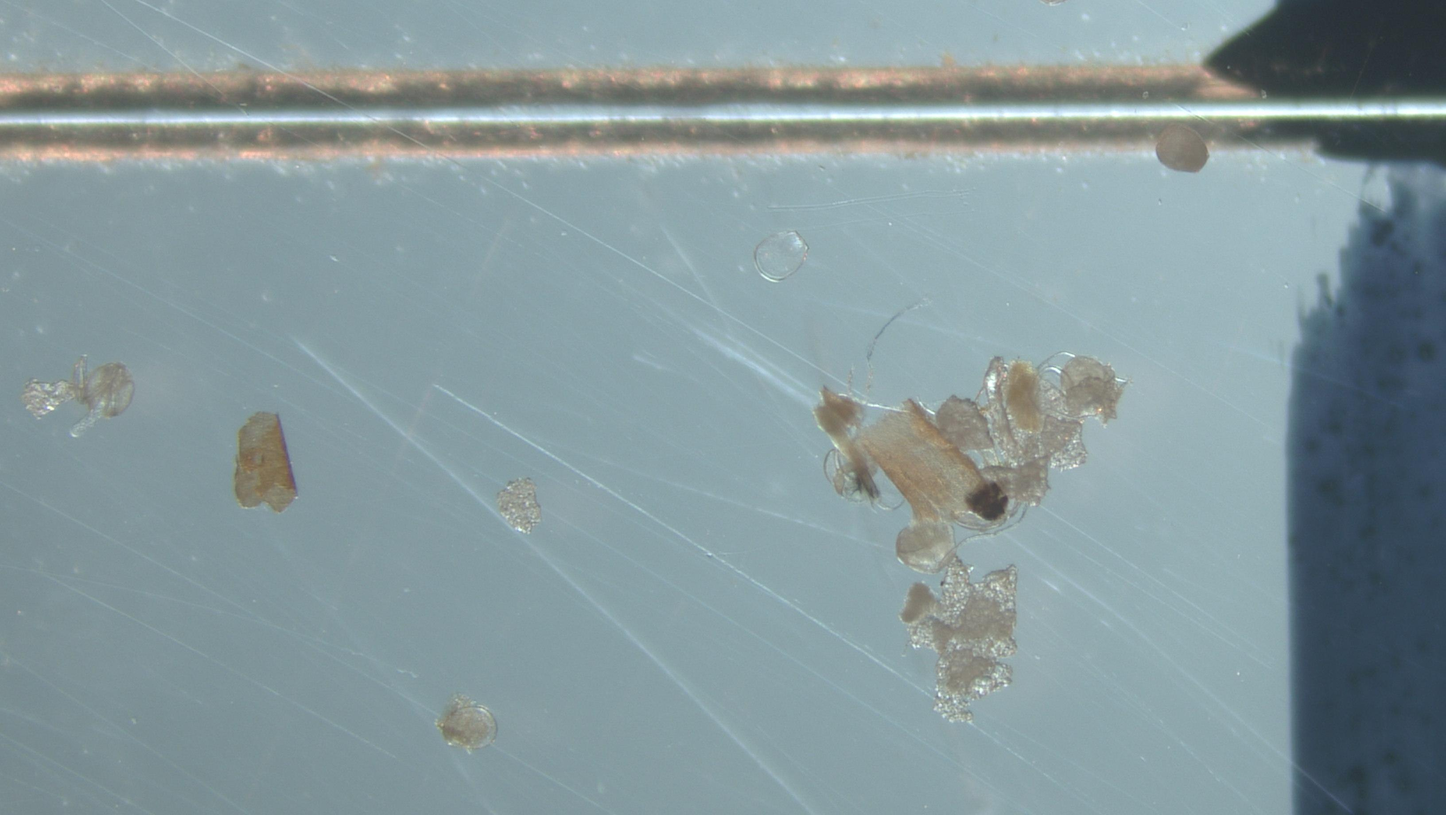dead: (754, 231, 809, 283), (439, 705, 497, 750), (1041, 351, 1077, 371), (876, 491, 906, 511), (824, 450, 839, 479)
live: (1061, 357, 1118, 417), (897, 518, 955, 573), (83, 363, 134, 424), (1155, 124, 1209, 173)
